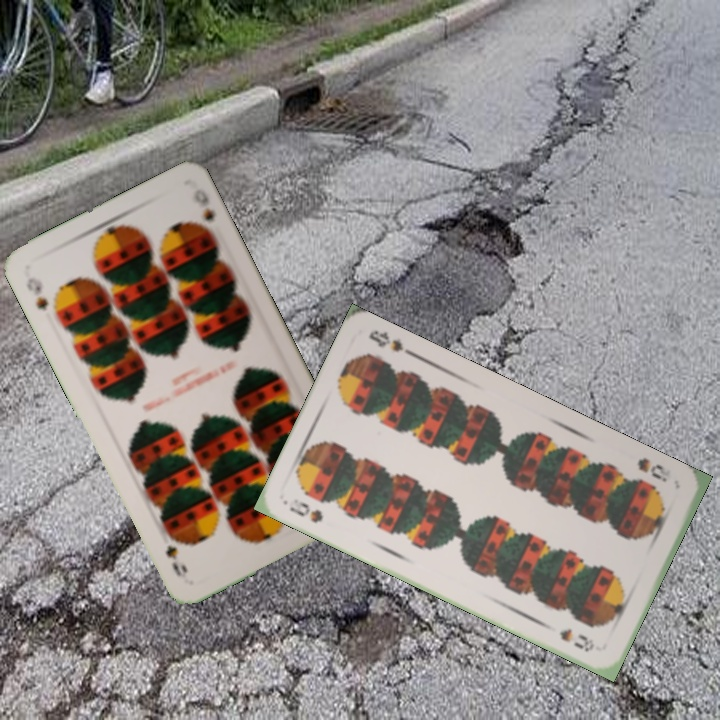S8: (633, 454, 674, 485), (285, 497, 326, 526)
S9: (22, 273, 51, 313)
